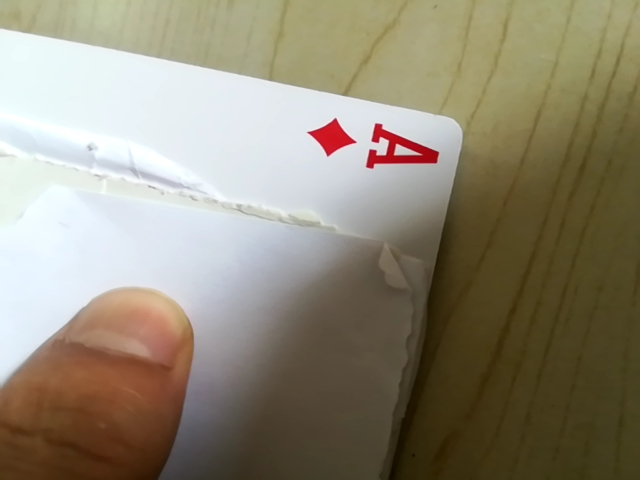fk a: (296, 109, 468, 182)
